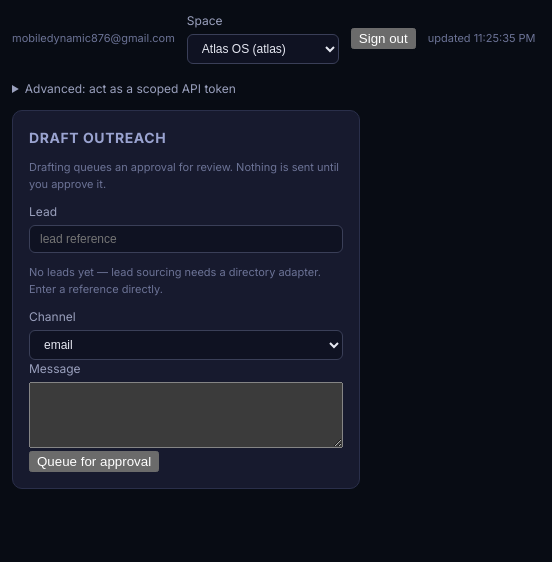
Test: outreach drafting › submits the lead, channel and body, and reports the approval
Type "lead-abc" into the field with test id "lead-id". click: (186, 239)
box: 29,225 -> 343,253
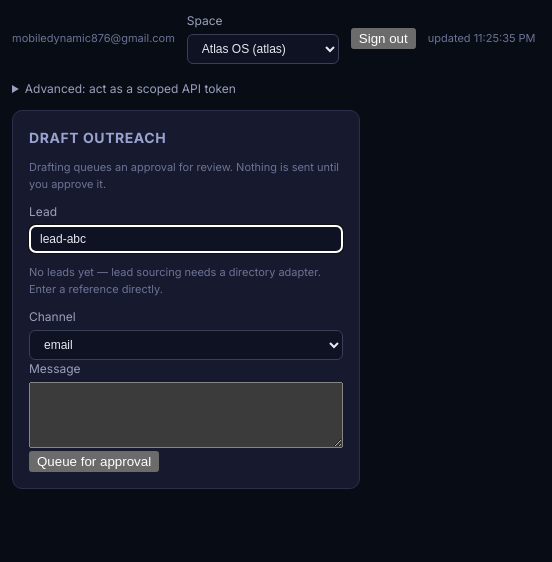
Select "sms" in the dropdown with test id "channel-select". click: (186, 345)
box: 29,330 -> 343,360
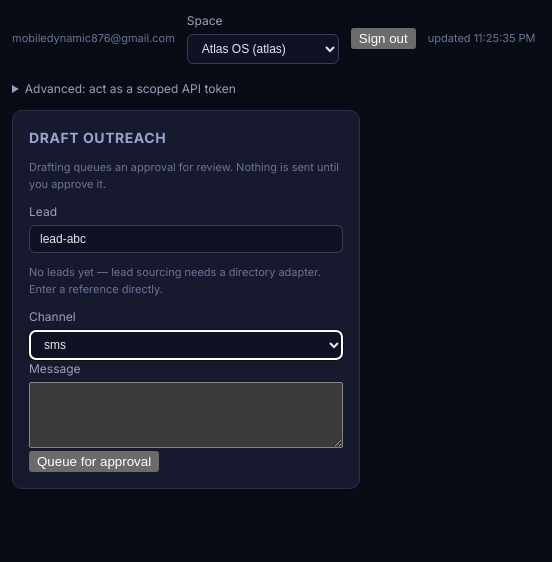
Type "Hello there" into the text box with test id "outreach-body". click: (186, 415)
box: 29,382 -> 343,448
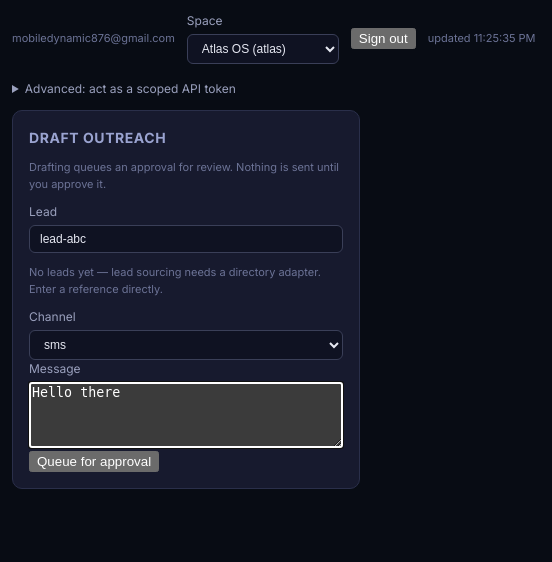
Click the button with test id "queue-approval". click: (94, 462)
box: 29,451 -> 159,472
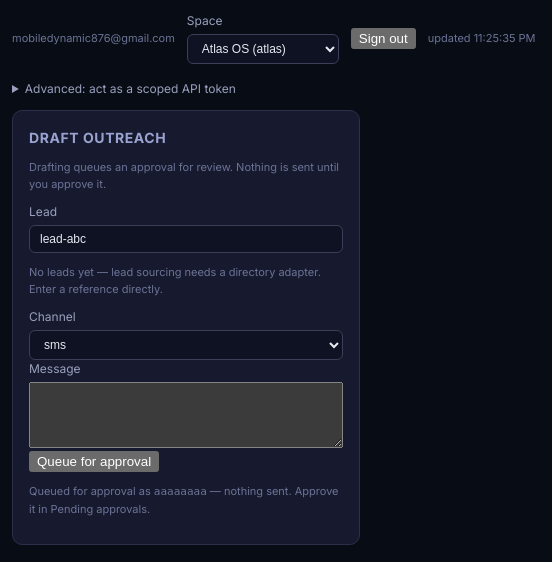
Now the element with test id "queued-notice" shows "nothing sent", box 29,484 -> 338,516
